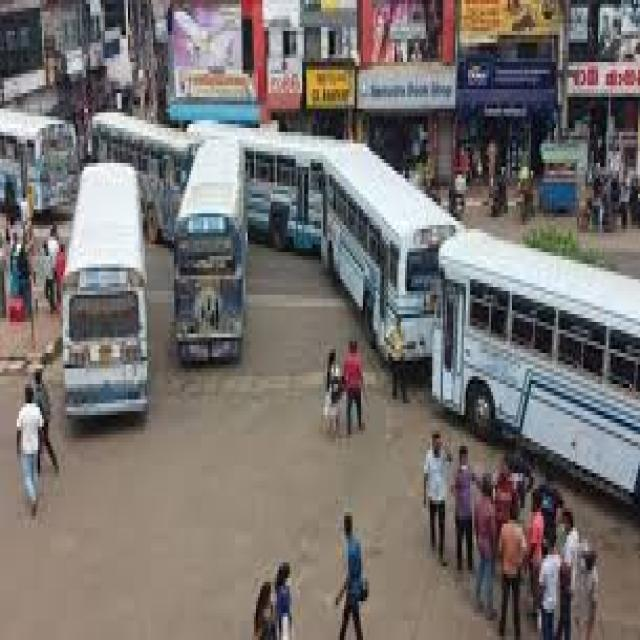bus: (301, 217, 440, 576)
person: (11, 434, 67, 640)
